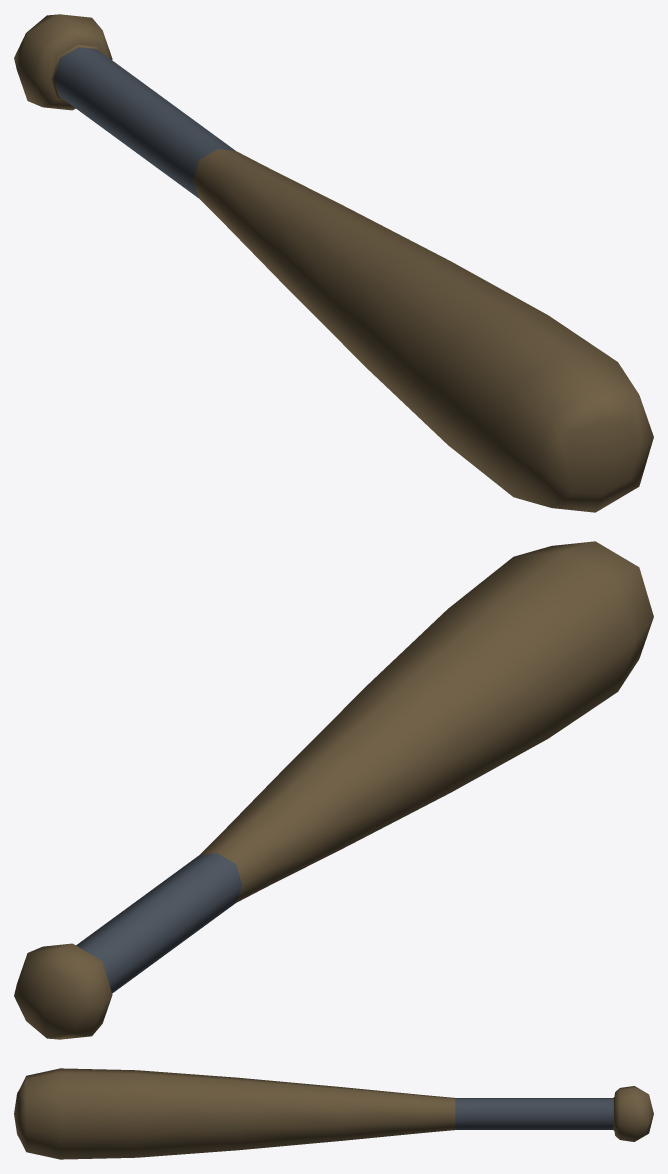
Rendered from Bat.fbx.
3 views of the same model, one above another, from view 1: azimuth 30°, elevation 25°; view 2: azimuth 150°, elevation 25°; view 3: azimuth 270°, elevation 25° (orthographic). The views are drawn at different scales.
Visible parts, largest first — view 1: Bat; view 2: Bat; view 3: Bat.
Boxes of the visible parts, box(x1,y1,x2,y2) form: Bat: box(14, 14, 653, 512); Bat: box(14, 541, 653, 1039); Bat: box(14, 1068, 653, 1159).
Bounding box in the file's own units: 9.37 × 9.37 × 65.58.
